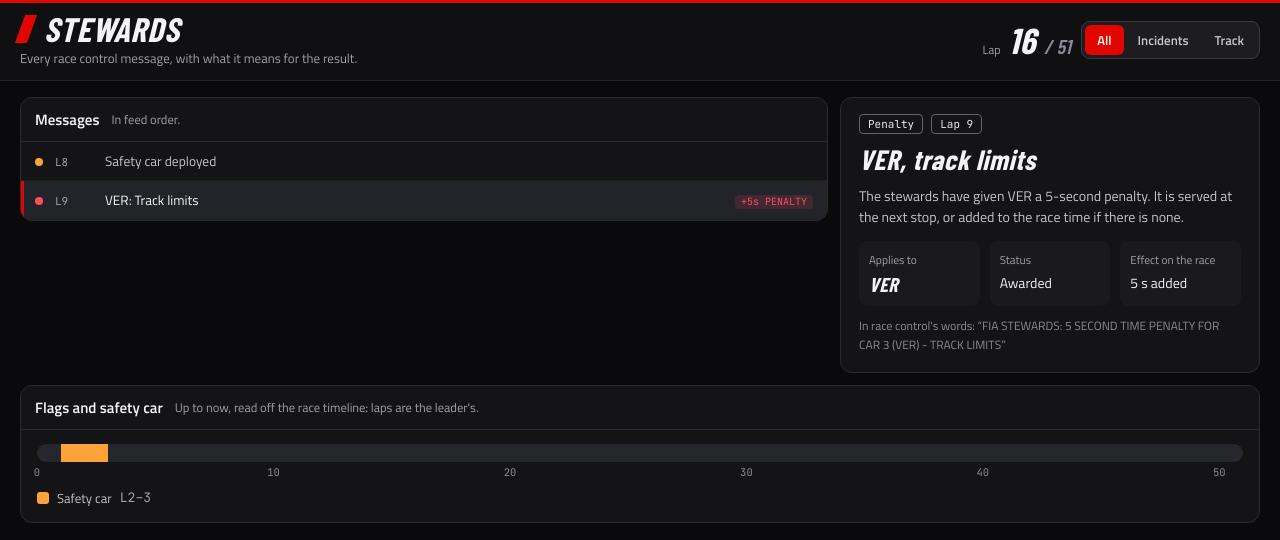
the stewards › filters to incidents or the track, and explains the newest by default
The width and height of the screenshot is (1280, 540).
Expected: the text "served at the next stop" is shown, [859,185,1232,227]
What coordinates should you click on to do the following:
click the radio button labelled "Track"
I would click on:
 (1229, 40)
Its box is [1202,25,1256,55].
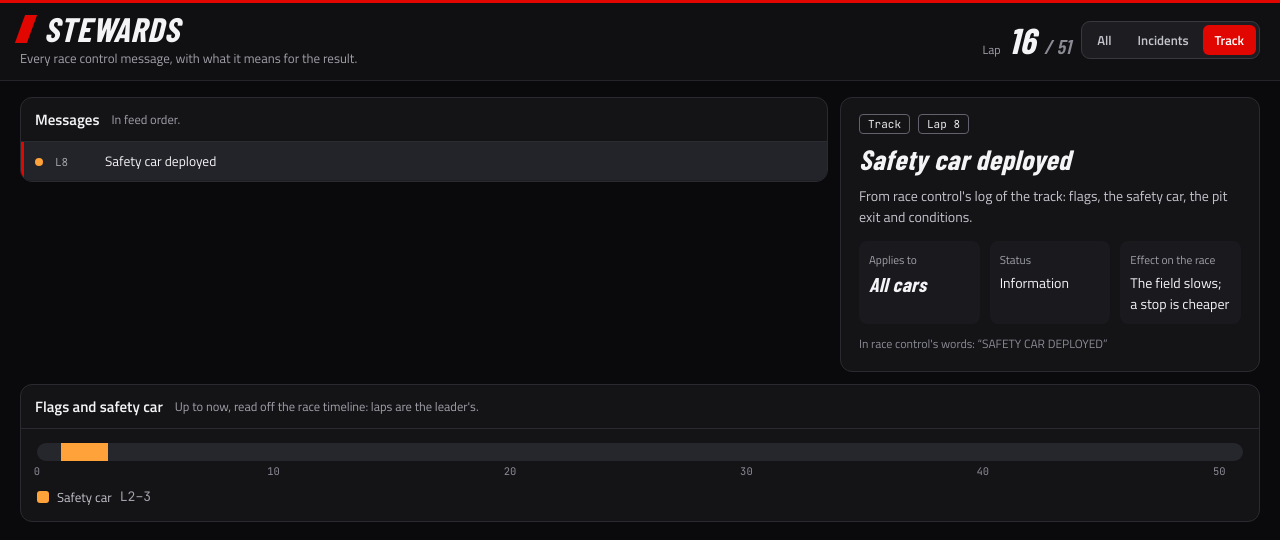
Expected: the text "Safety car deployed" below "Messages" is shown, [105,151,216,171]
Result: the button "Track limits" is gone
